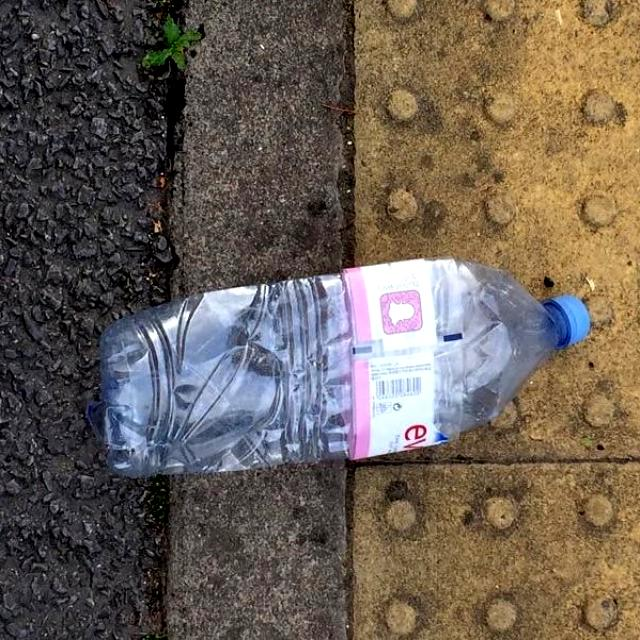Plastic: (92, 245, 596, 494)
